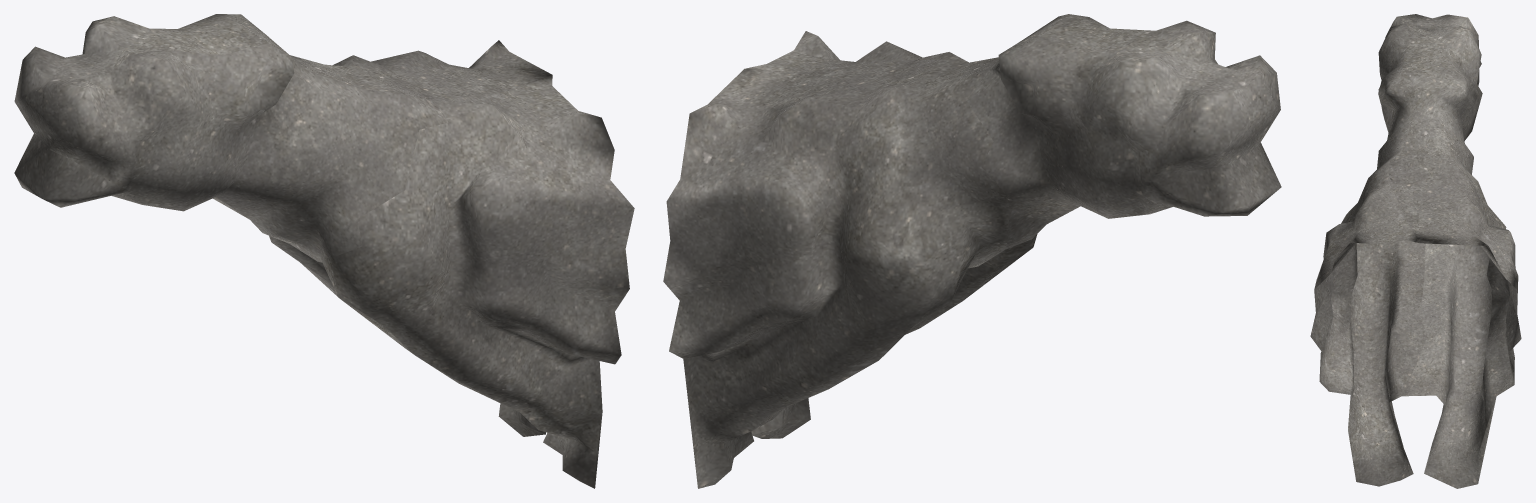
Rendered from SM_WallGargoyle_2.fbx.
3 views of the same model, side by side, from view 1: azimuth 30°, elevation 25°; view 2: azimuth 150°, elevation 25°; view 3: azimuth 270°, elevation 25° (orthographic). The views are drawn at different scales.
Visible parts, largest first — view 1: SM_WallGargoyle_2_LOD0; view 2: SM_WallGargoyle_2_LOD0; view 3: SM_WallGargoyle_2_LOD0.
Part boxes in pixels (x1=…): SM_WallGargoyle_2_LOD0: x1=14, y1=14, x2=634, y2=488; SM_WallGargoyle_2_LOD0: x1=663, y1=14, x2=1281, y2=488; SM_WallGargoyle_2_LOD0: x1=1310, y1=14, x2=1521, y2=488.
Bounding box in the file's own units: 110 × 60.54 × 105.
